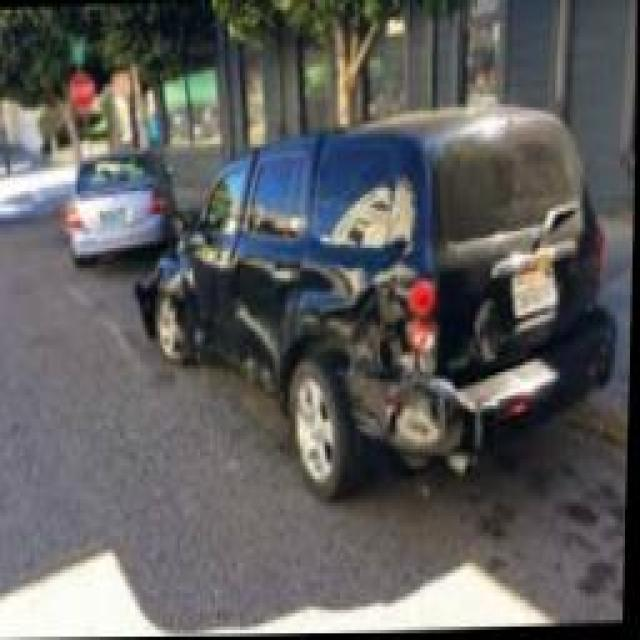Door: (215, 243, 311, 403), (184, 229, 236, 365)
Fender: (346, 370, 488, 472), (288, 267, 410, 378)
